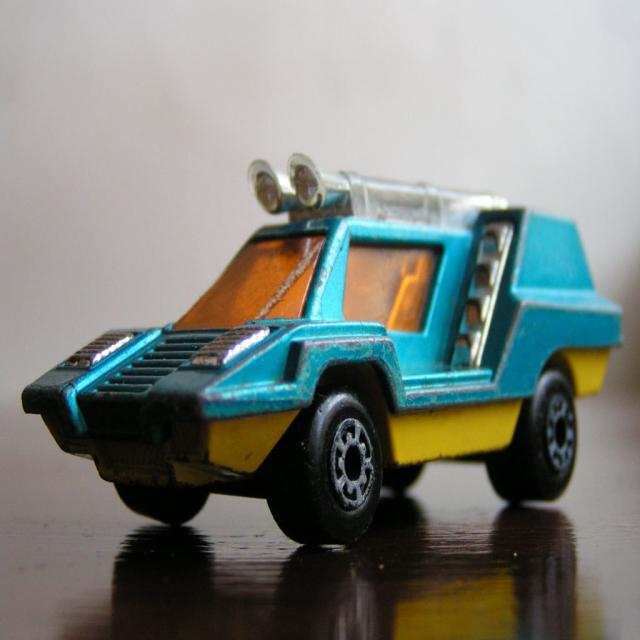car: (22, 150, 630, 558)
